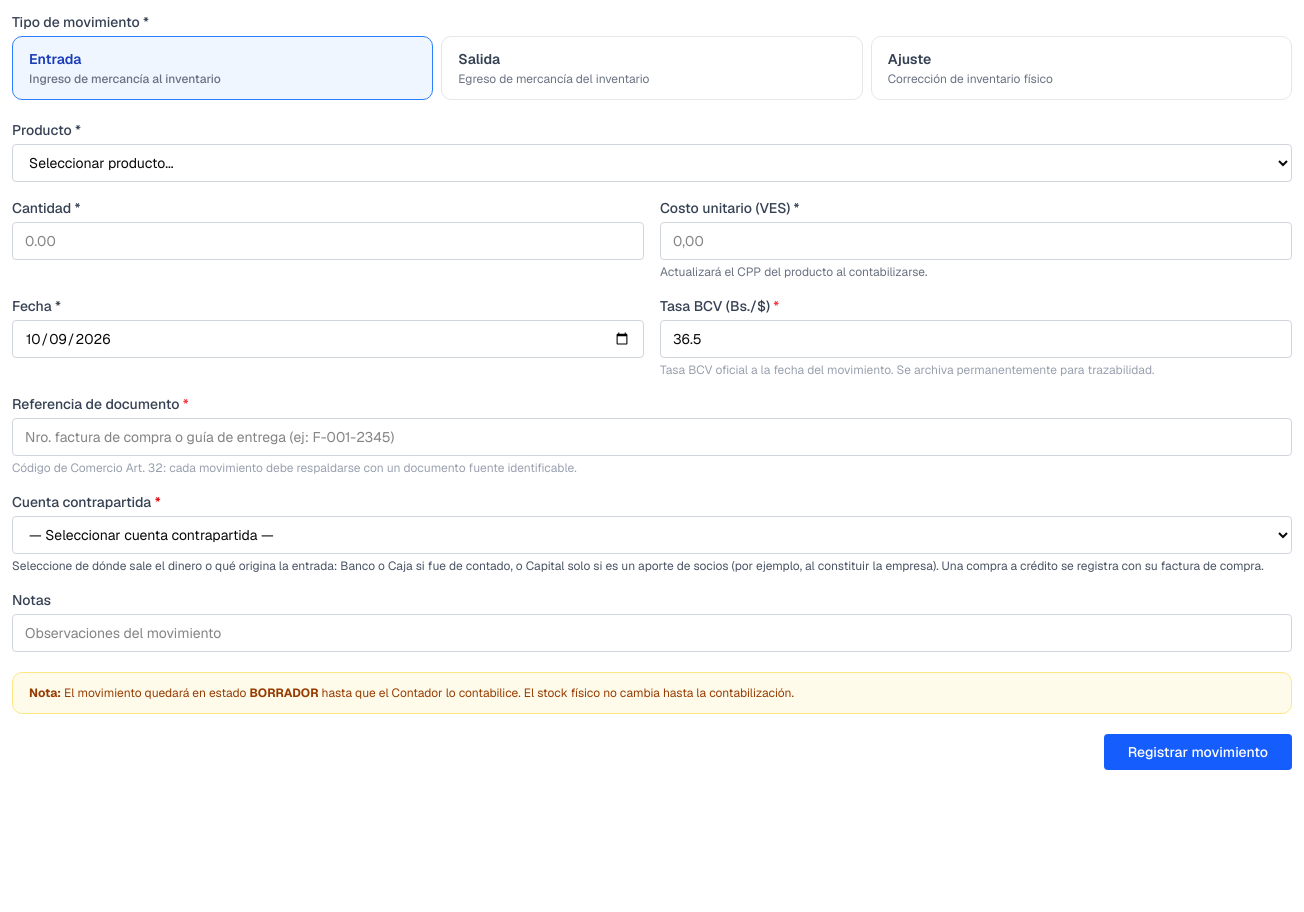
it: MovementForm — contrapartida obligatoria en ENTRADA (SPEC-007) › ENTRADA con contrapartida: envía counterpartAccountId a la action
This screenshot has width=1304, height=912.
Select "[SKU-001] Harina de trigo — Stock: 10 kg" in the dropdown showing "Seleccionar producto...": (652, 163) left=12, top=144, right=1292, bottom=182
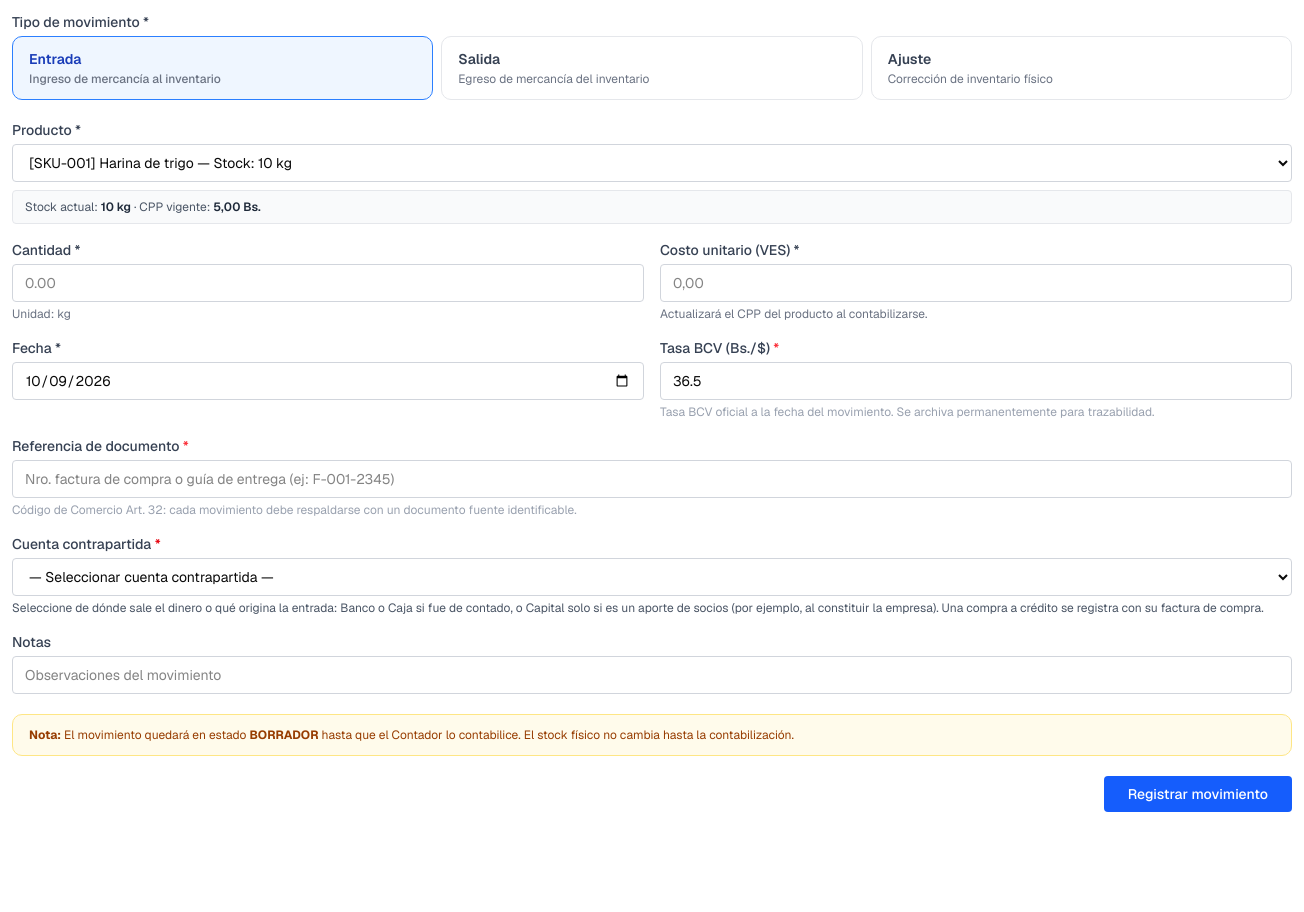
In the number field with placeholder "0.00": (328, 283) left=12, top=264, right=644, bottom=302, type "5"
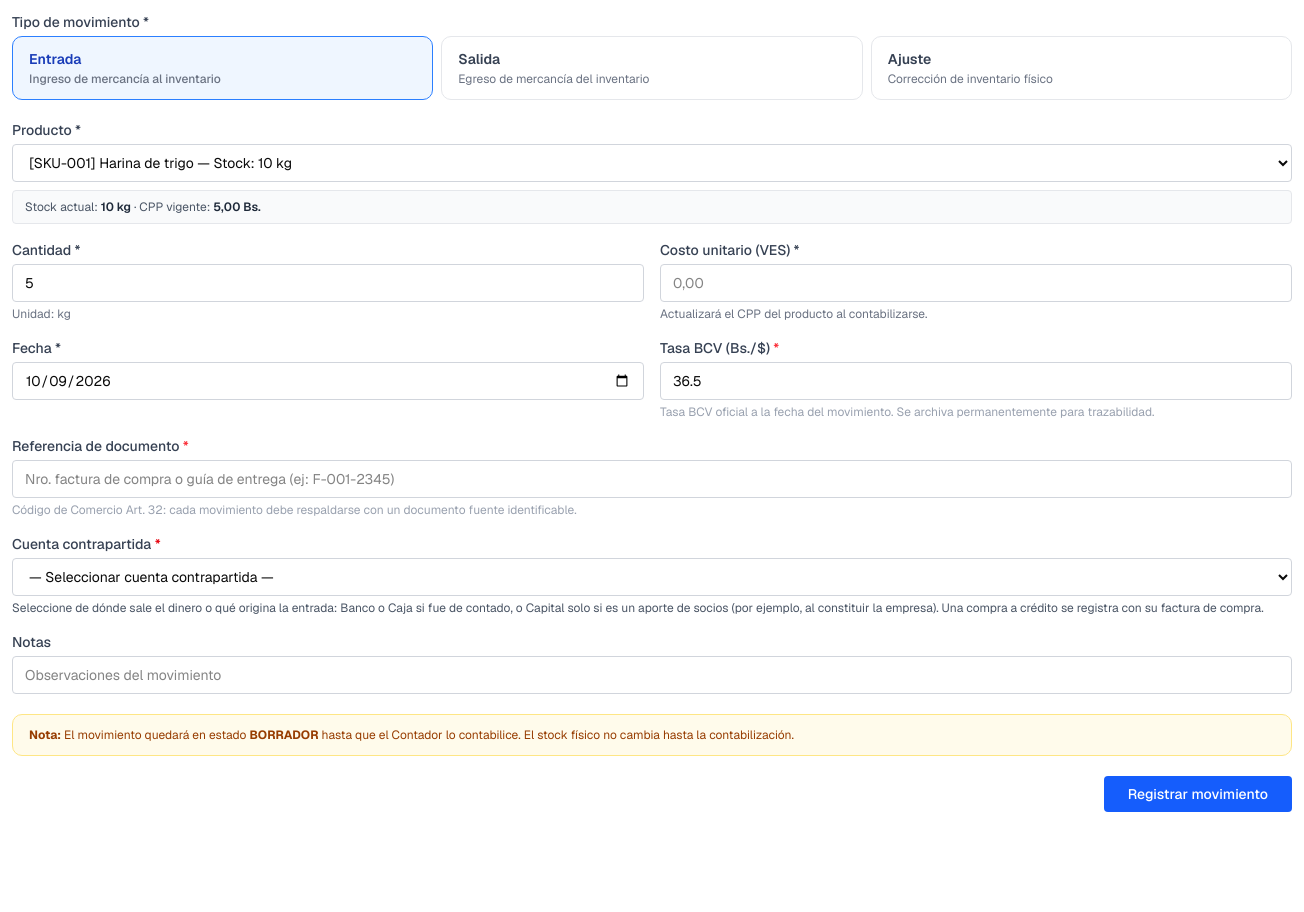
In the field with placeholder "0,00": (976, 283) left=660, top=264, right=1292, bottom=302, type "10"
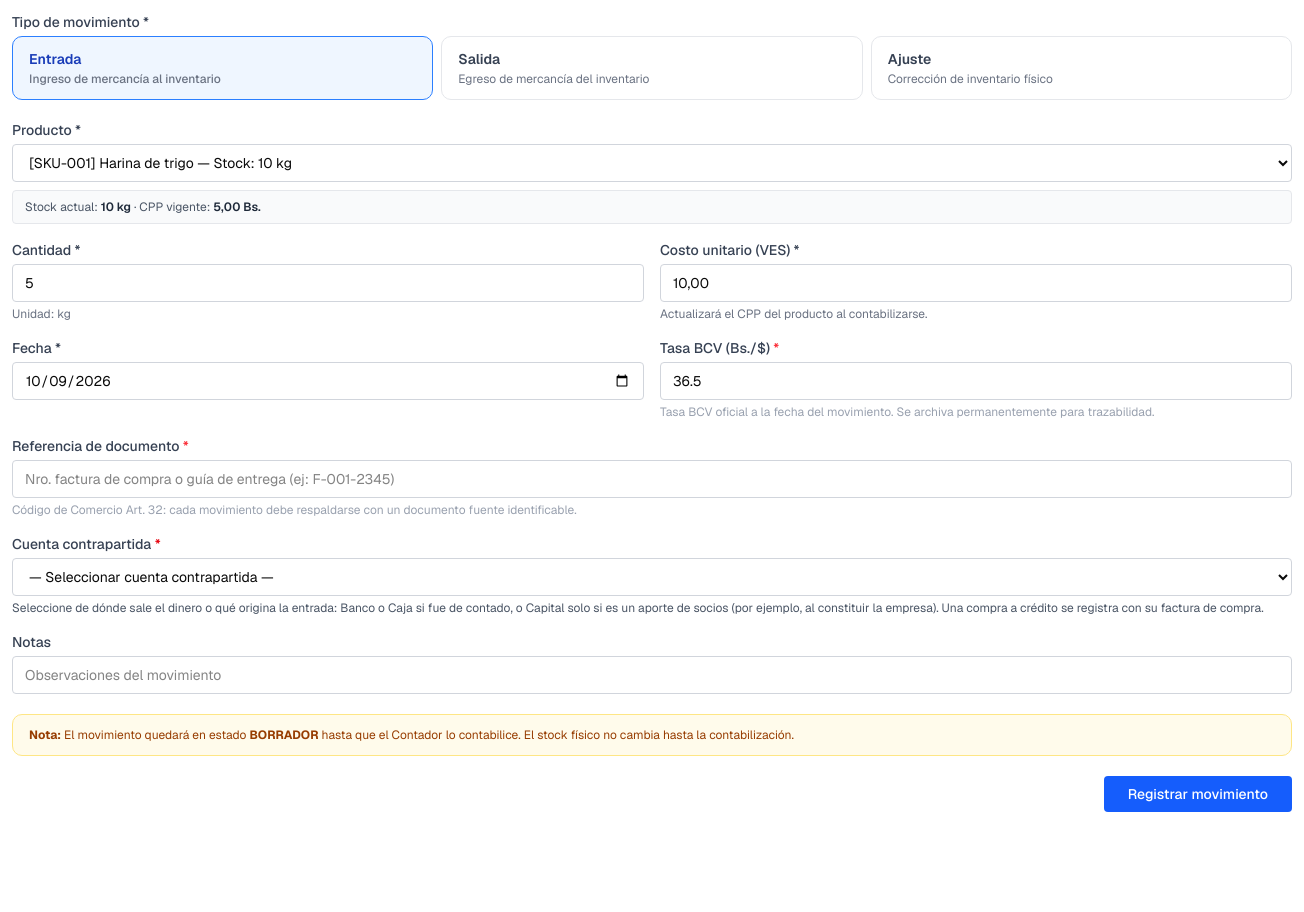
In the field with placeholder "Nro. factura de compra o guía de entrega (ej: F-001-2345)": (652, 479) left=12, top=460, right=1292, bottom=498, type "F-001-2345"
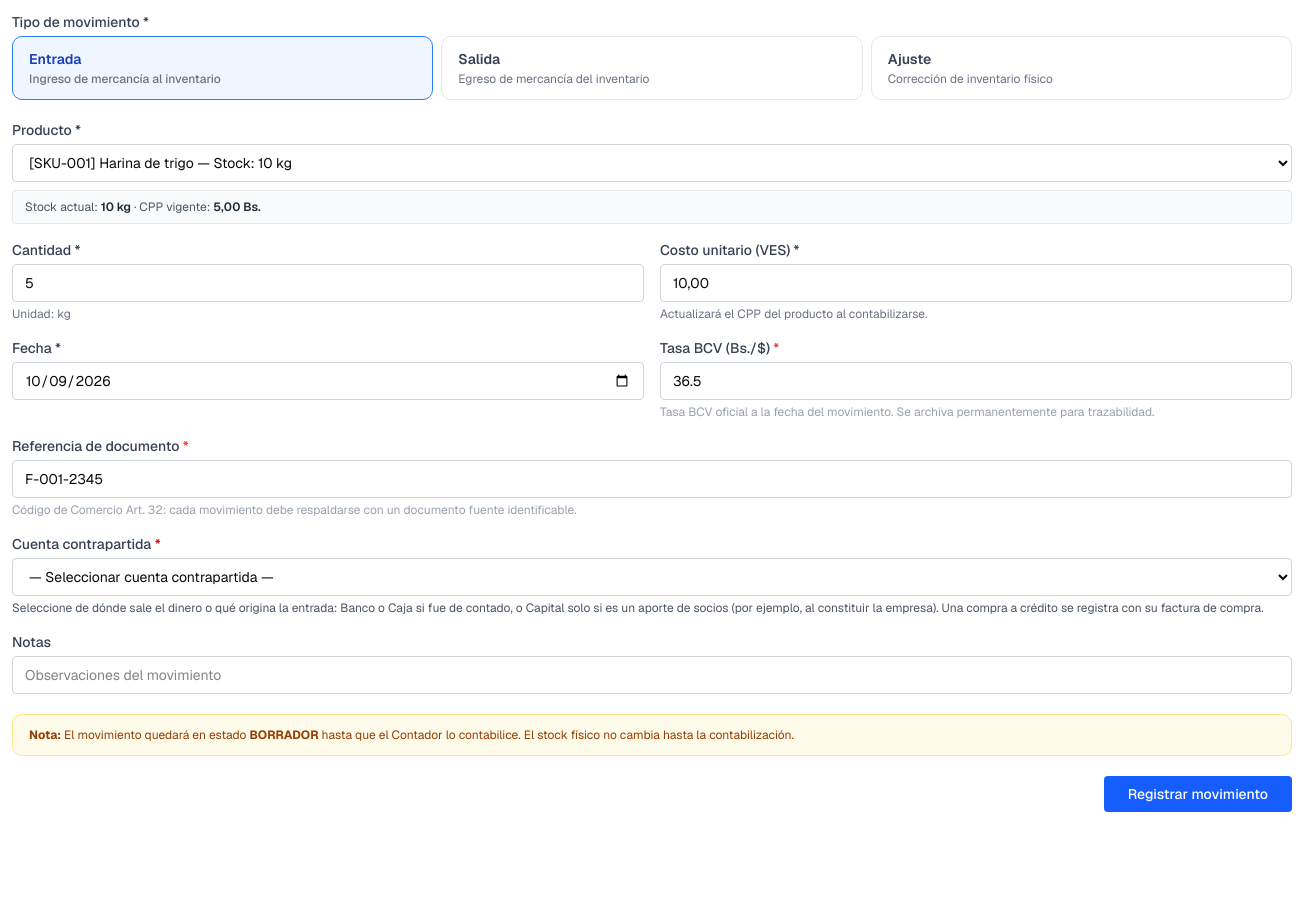
Select "310101001 — Capital social" in the dropdown labelled "Cuenta contrapartida *": (652, 577) left=12, top=558, right=1292, bottom=596
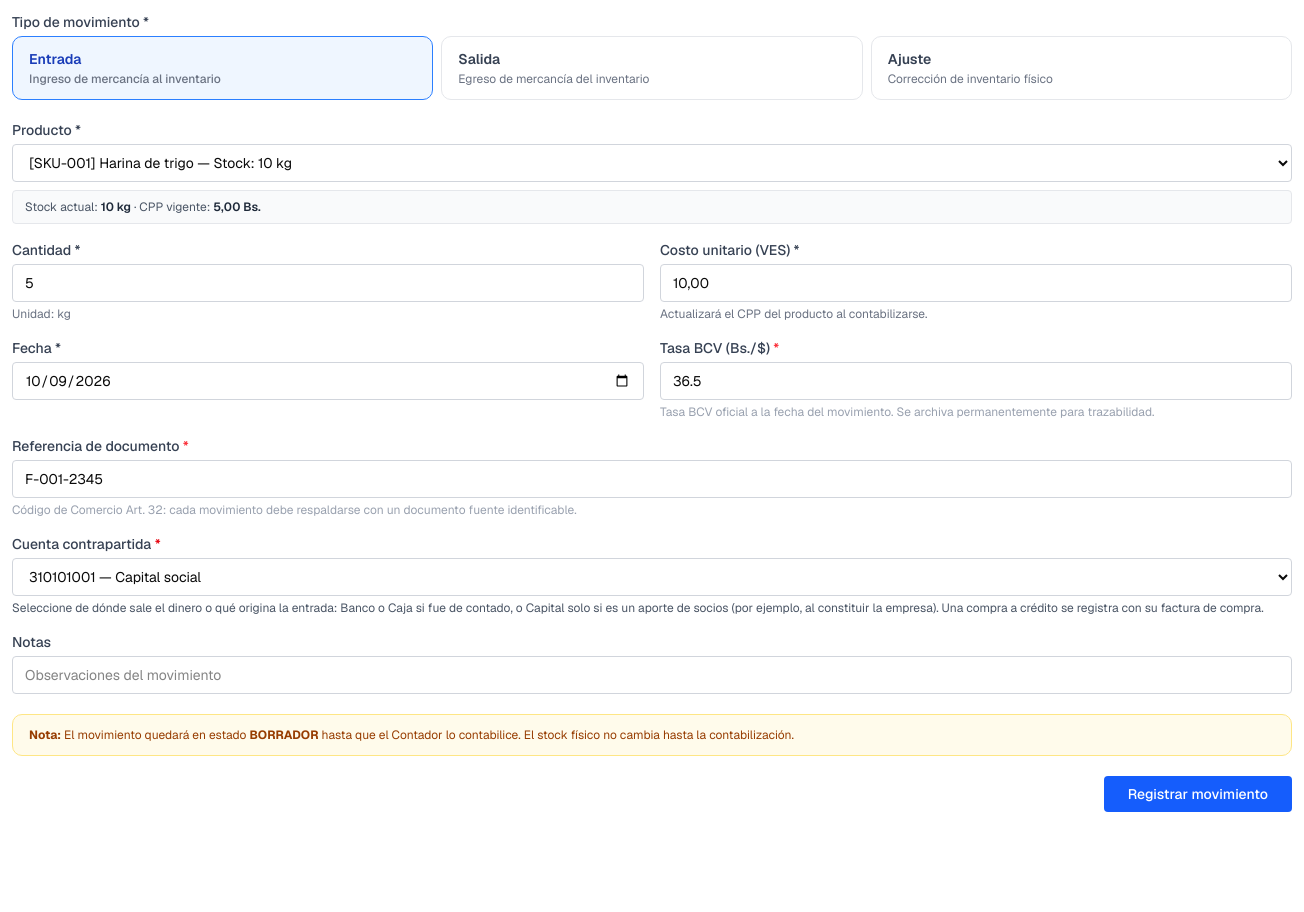
Submit the form
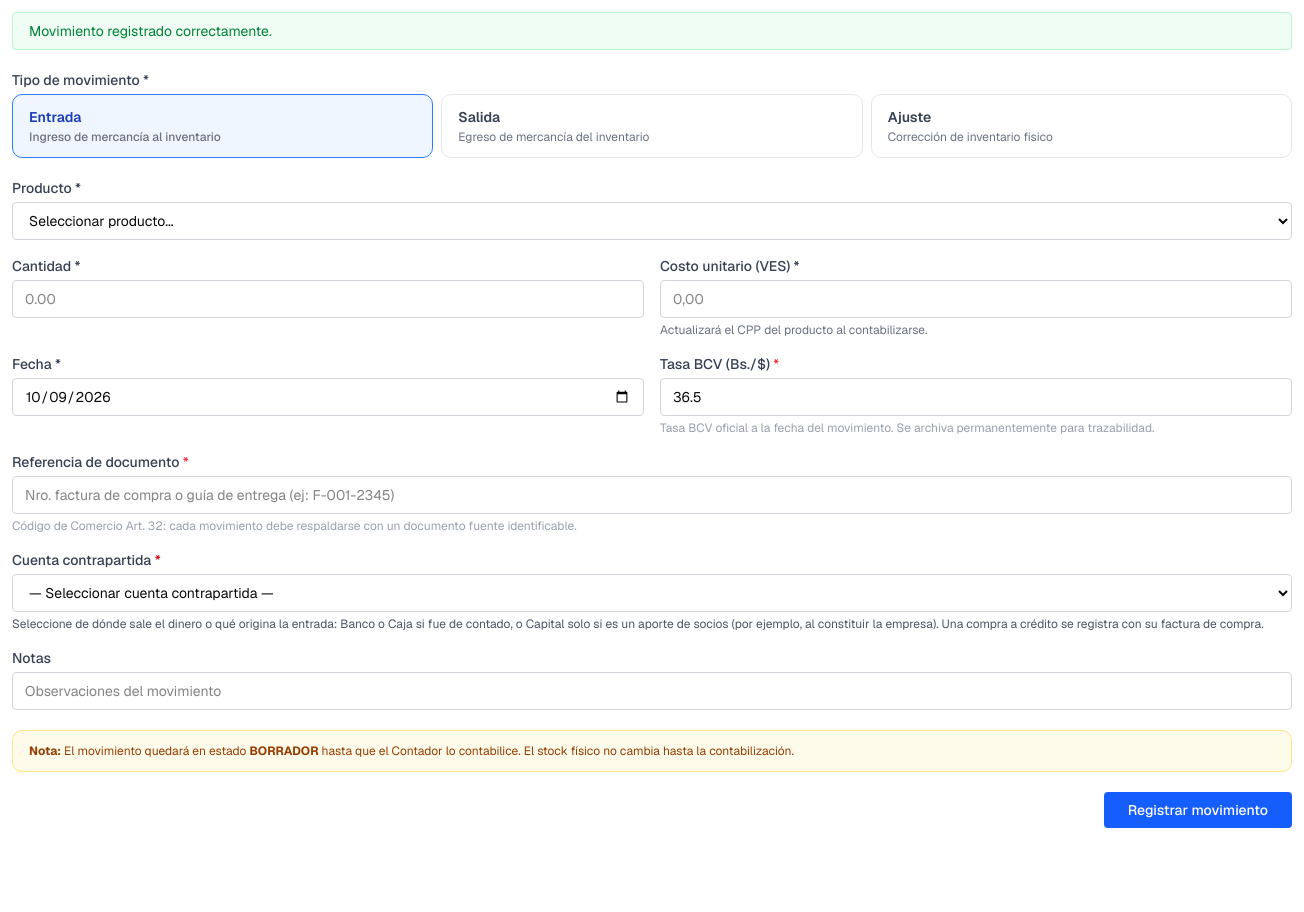
Expected: the message "Movimiento registrado correctamente." is shown, left=12, top=12, right=1292, bottom=50
